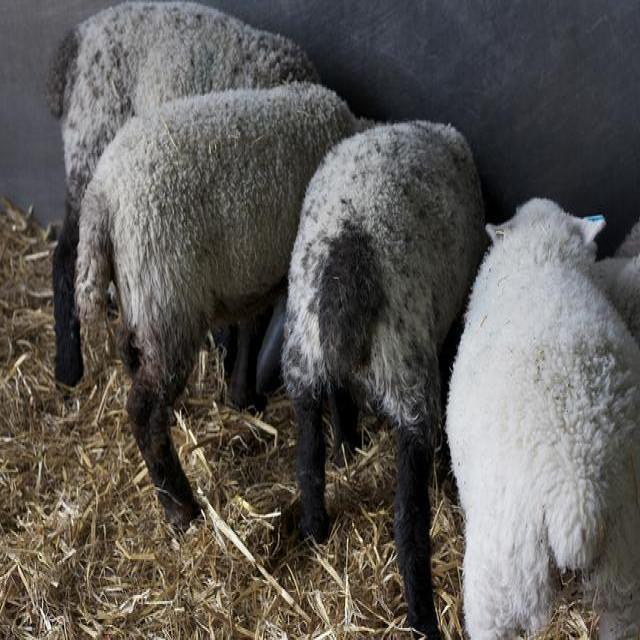Sheep: (75, 84, 373, 534), (279, 120, 493, 634), (43, 0, 320, 396), (445, 198, 639, 632)
